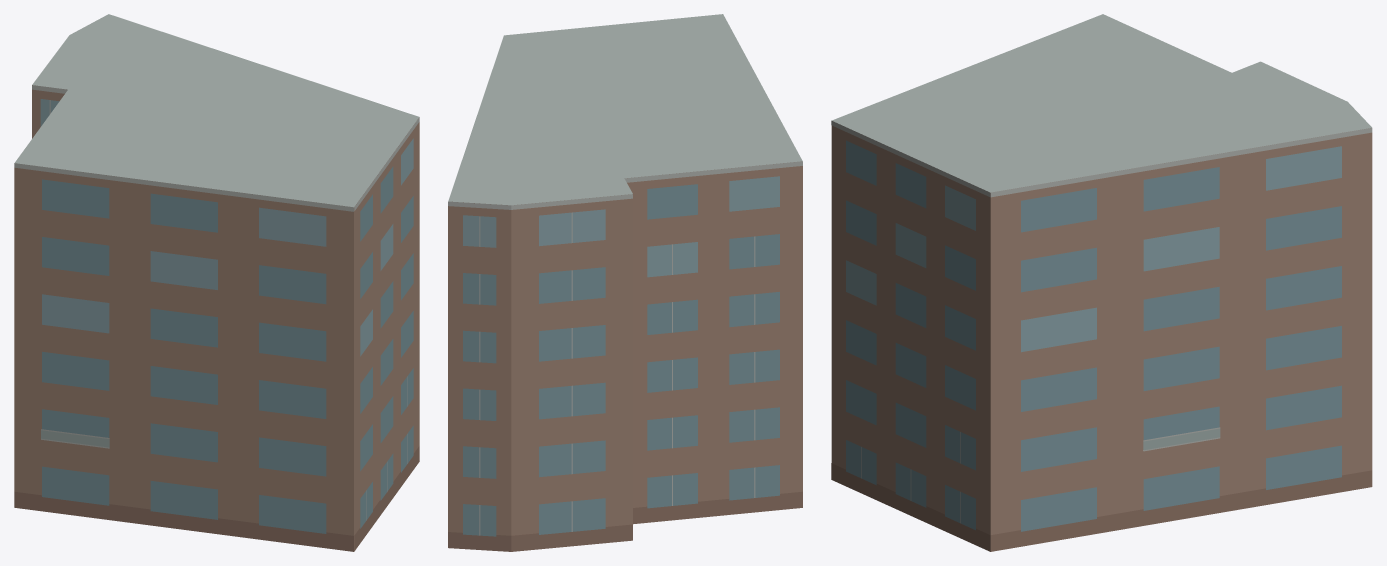
File: survey-upis-32530620.glb
3 views of the same model, side by side, from view 1: azimuth 30°, elevation 25°; view 2: azimuth 150°, elevation 25°; view 3: azimuth 270°, elevation 25° (orthographic). The views are drawn at different scales.
Visible parts, largest first — view 1: survey-upis-32530620.tmp; view 2: survey-upis-32530620.tmp; view 3: survey-upis-32530620.tmp.
Boxes of the visible parts, x1,y1,x2,y2 form: survey-upis-32530620.tmp: (14, 14, 419, 551); survey-upis-32530620.tmp: (448, 14, 802, 551); survey-upis-32530620.tmp: (831, 14, 1372, 551).
Bounding box in the file's own units: 19.58 × 18.35 × 25.05.
